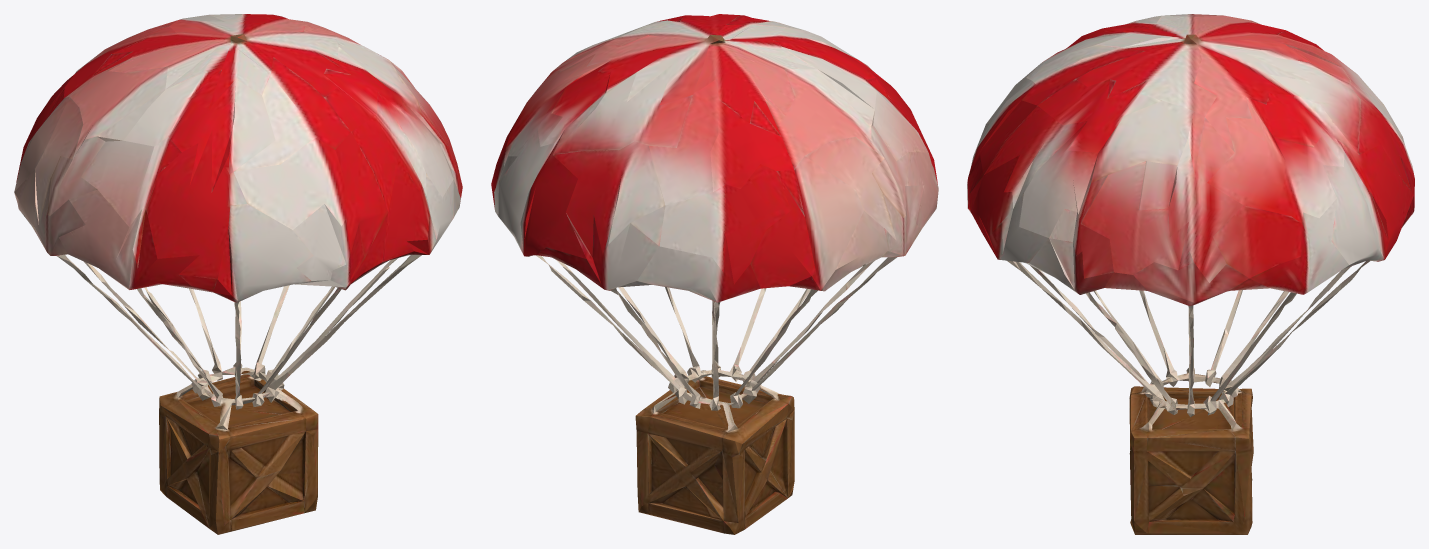
File: parachute.glb
3 renders of one model, left to right at view 1: azimuth 30°, elevation 25°; view 2: azimuth 150°, elevation 25°; view 3: azimuth 270°, elevation 25°, orthographic.
Parts seen in each view (by area): view 1: output_unwrapped; view 2: output_unwrapped; view 3: output_unwrapped.
Part boxes in pixels (<box>): output_unwrapped: <box>14,14,462,534</box>; output_unwrapped: <box>491,14,938,534</box>; output_unwrapped: <box>967,14,1414,534</box>.
Size of the model in its own units: 1.62 by 1.9 by 1.62.
Materials: 1 (1 with a texture image).
